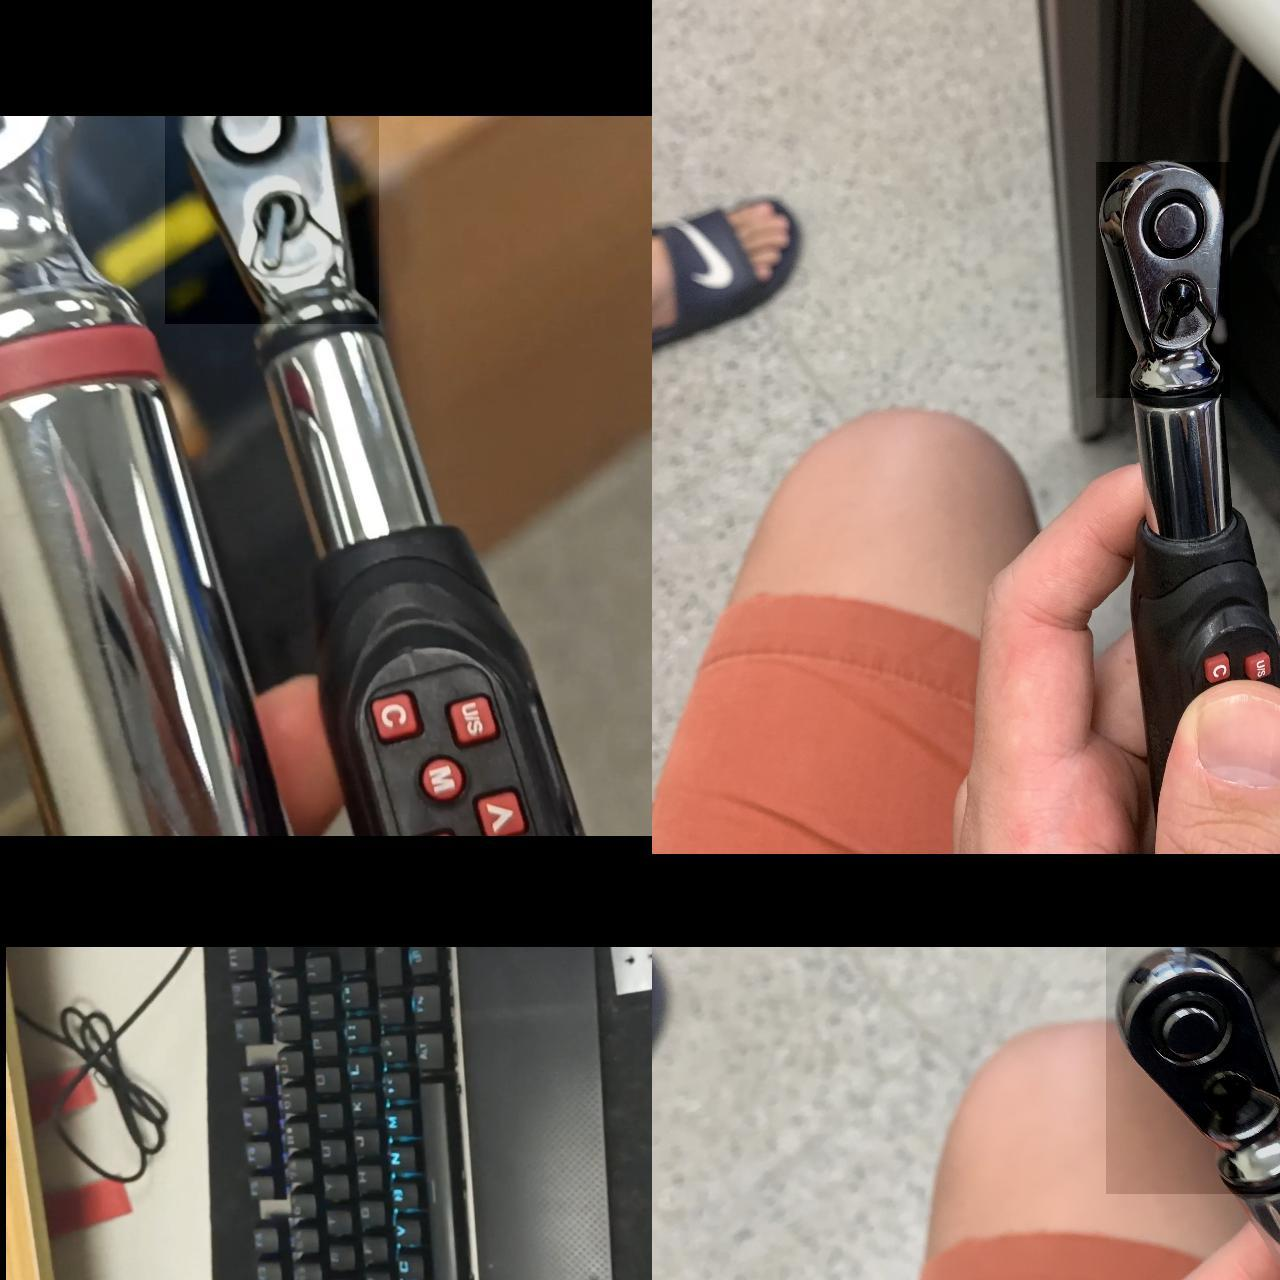Tool: (164, 116, 377, 324), (1105, 947, 1280, 1194), (1095, 162, 1228, 399)
